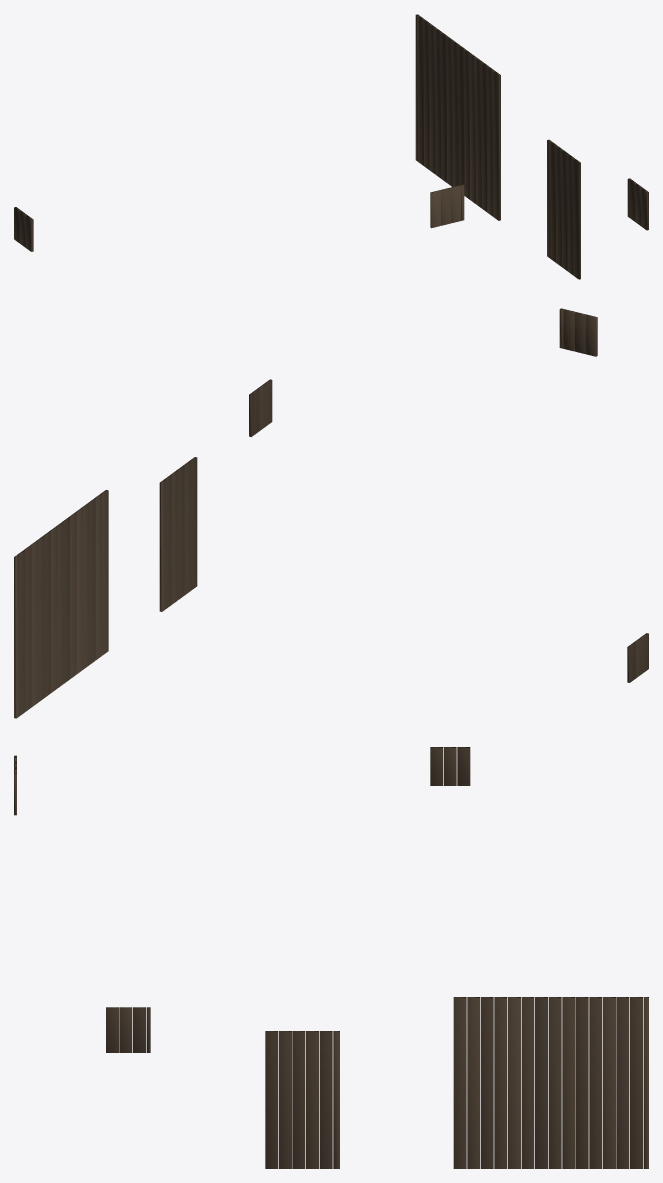
The model's file is SM_BarnWood_16.glb.
3 views of the same model, one above another, from view 1: azimuth 30°, elevation 25°; view 2: azimuth 150°, elevation 25°; view 3: azimuth 270°, elevation 25° (orthographic). The views are drawn at different scales.
Parts seen in each view (by area): view 1: SM_BarnWood_16; view 2: SM_BarnWood_16; view 3: SM_BarnWood_16.
Boxes of the visible parts, left/top/right/bottom form: SM_BarnWood_16: left=14, top=14, right=648, bottom=279; SM_BarnWood_16: left=14, top=308, right=648, bottom=718; SM_BarnWood_16: left=14, top=747, right=648, bottom=1168.
Bounding box in the file's own units: 8.64 × 3.9 × 8.43.
